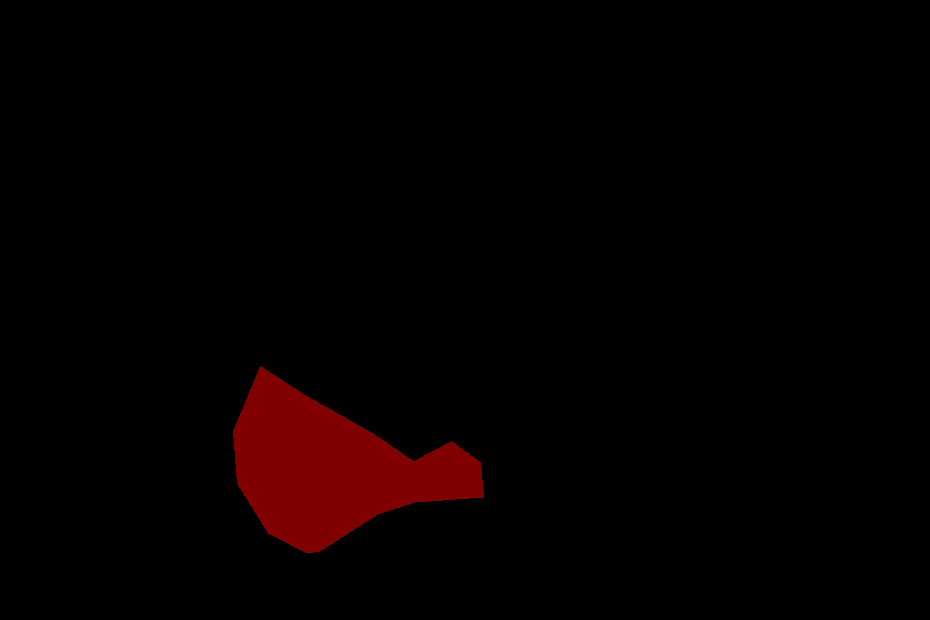fire: (233, 366, 483, 553)
